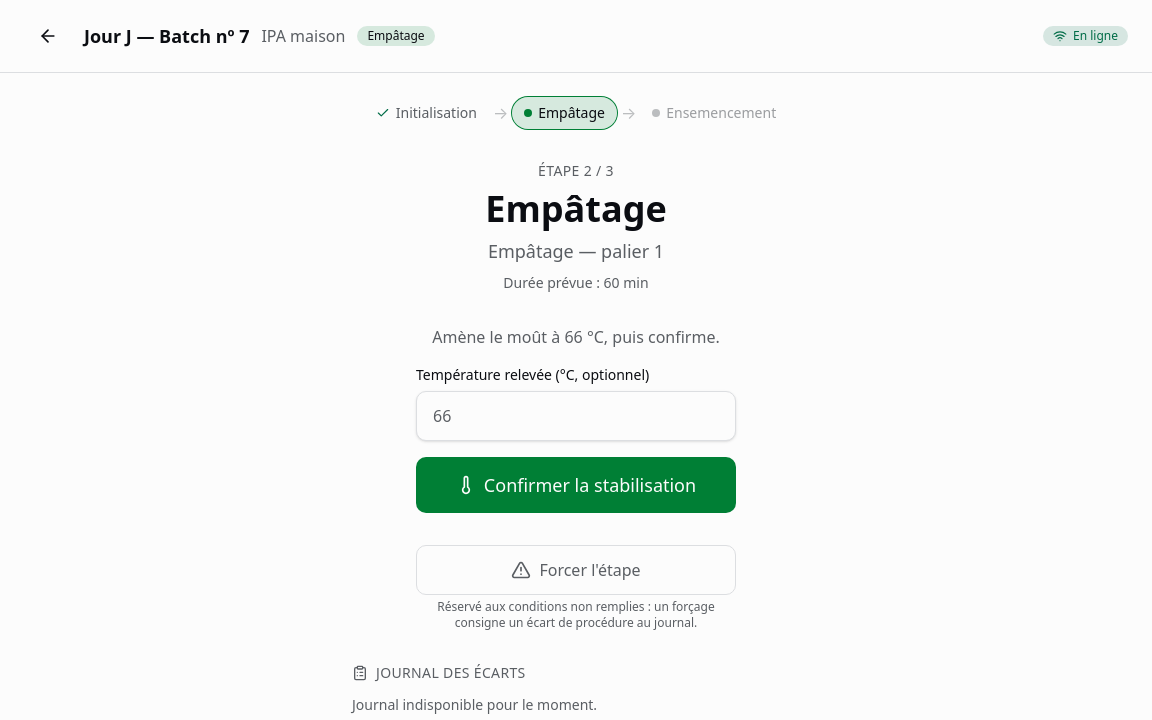
timers de palier & rampe Jour J (M4-10) › confirmer (avec température) arme le timer et affiche le compte à rebours
This screenshot has width=1152, height=720.
Type "65" into the number field labelled "Température relevée (°C, optionnel)" at [576, 416], box [416,391,736,441]
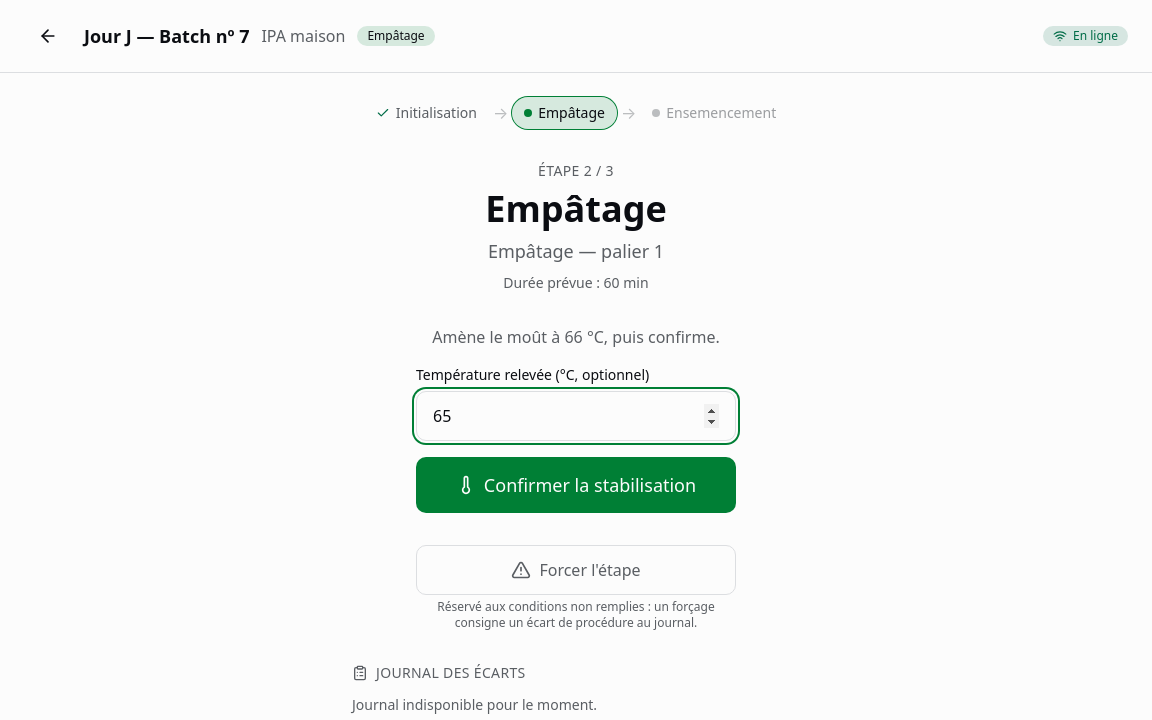
Click the button "Confirmer la stabilisation" at [576, 485], box [416,457,736,513]
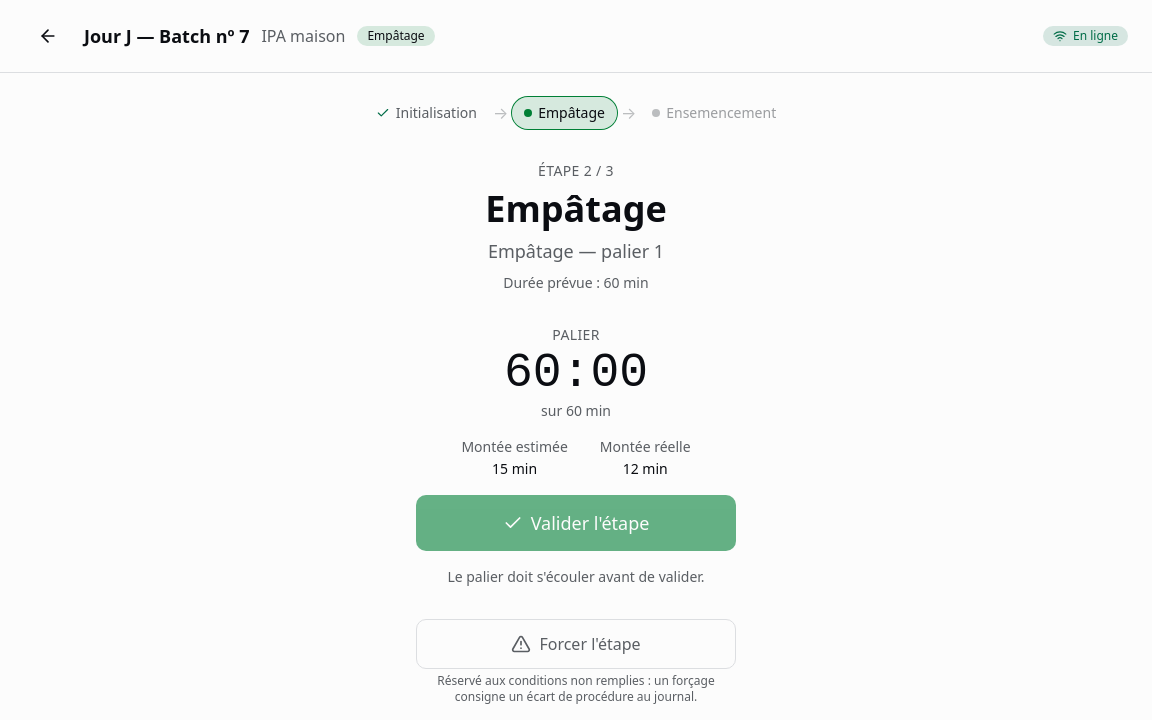
Result: the text "60:00" is shown at [504,349,648,397]
Result: the text "sur 60 min" is shown at [541,401,611,421]
